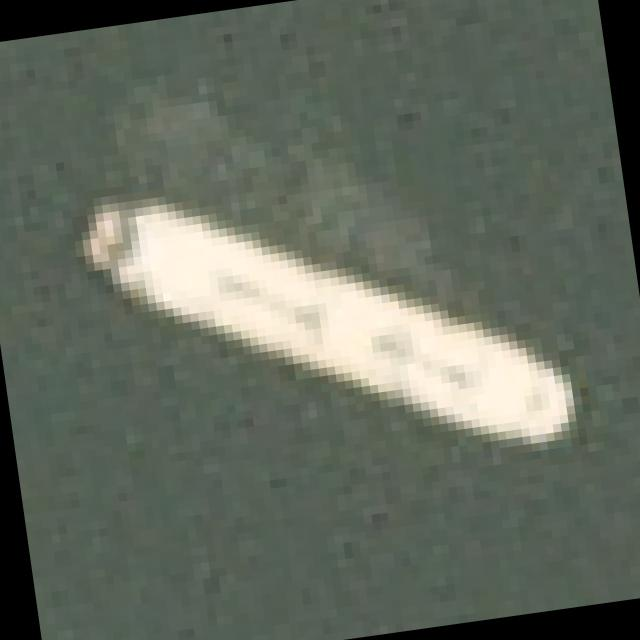ship: (25, 75, 628, 557)
